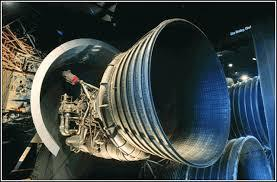thruster: (97, 15, 235, 169), (163, 134, 274, 182), (222, 73, 268, 149)
